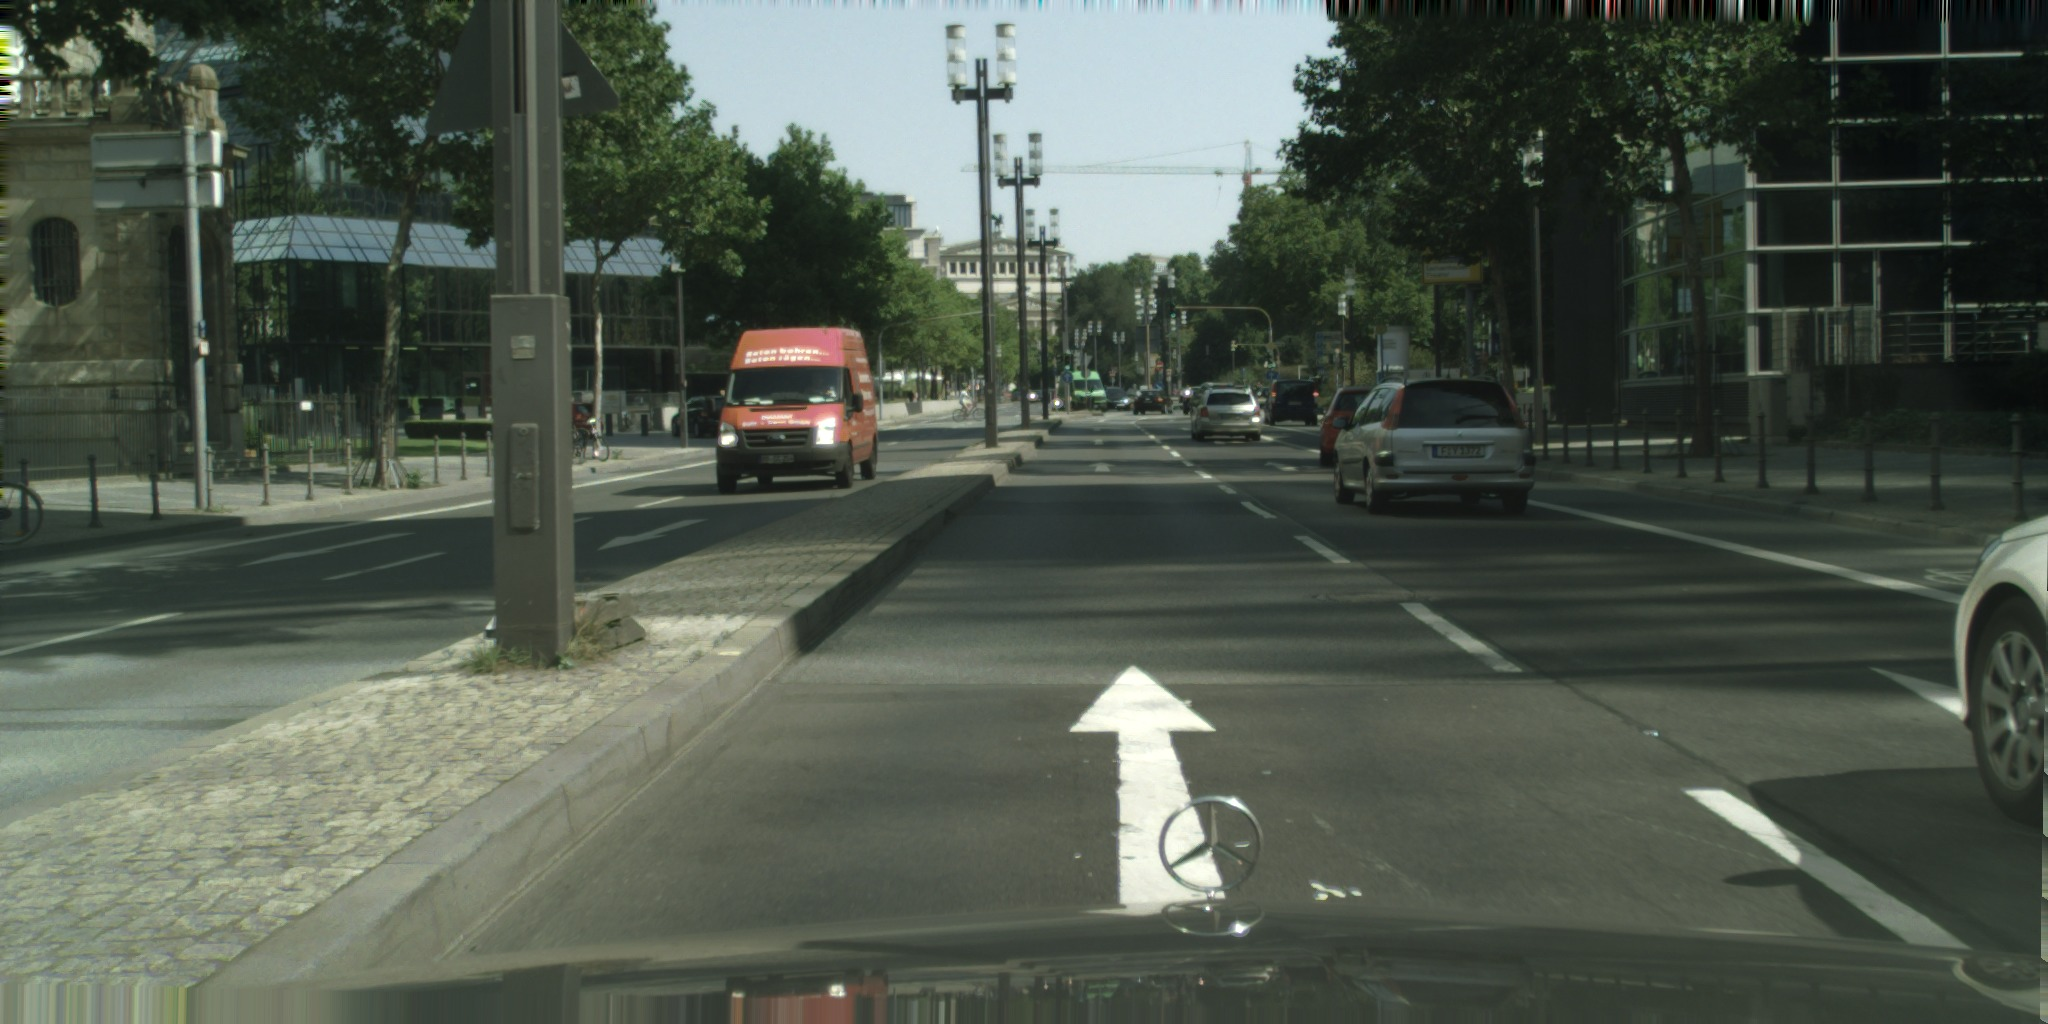bicycle: (0, 478, 45, 546), (563, 417, 611, 466), (951, 399, 988, 423)
car: (1954, 513, 2048, 830), (1331, 373, 1535, 517), (716, 327, 879, 495), (1313, 385, 1391, 467), (1191, 387, 1263, 443), (1263, 378, 1320, 427), (670, 395, 731, 439), (1057, 370, 1107, 412), (1189, 382, 1236, 420), (562, 401, 605, 439), (1132, 389, 1175, 416), (1050, 394, 1070, 413)
rider: (959, 385, 972, 421)
